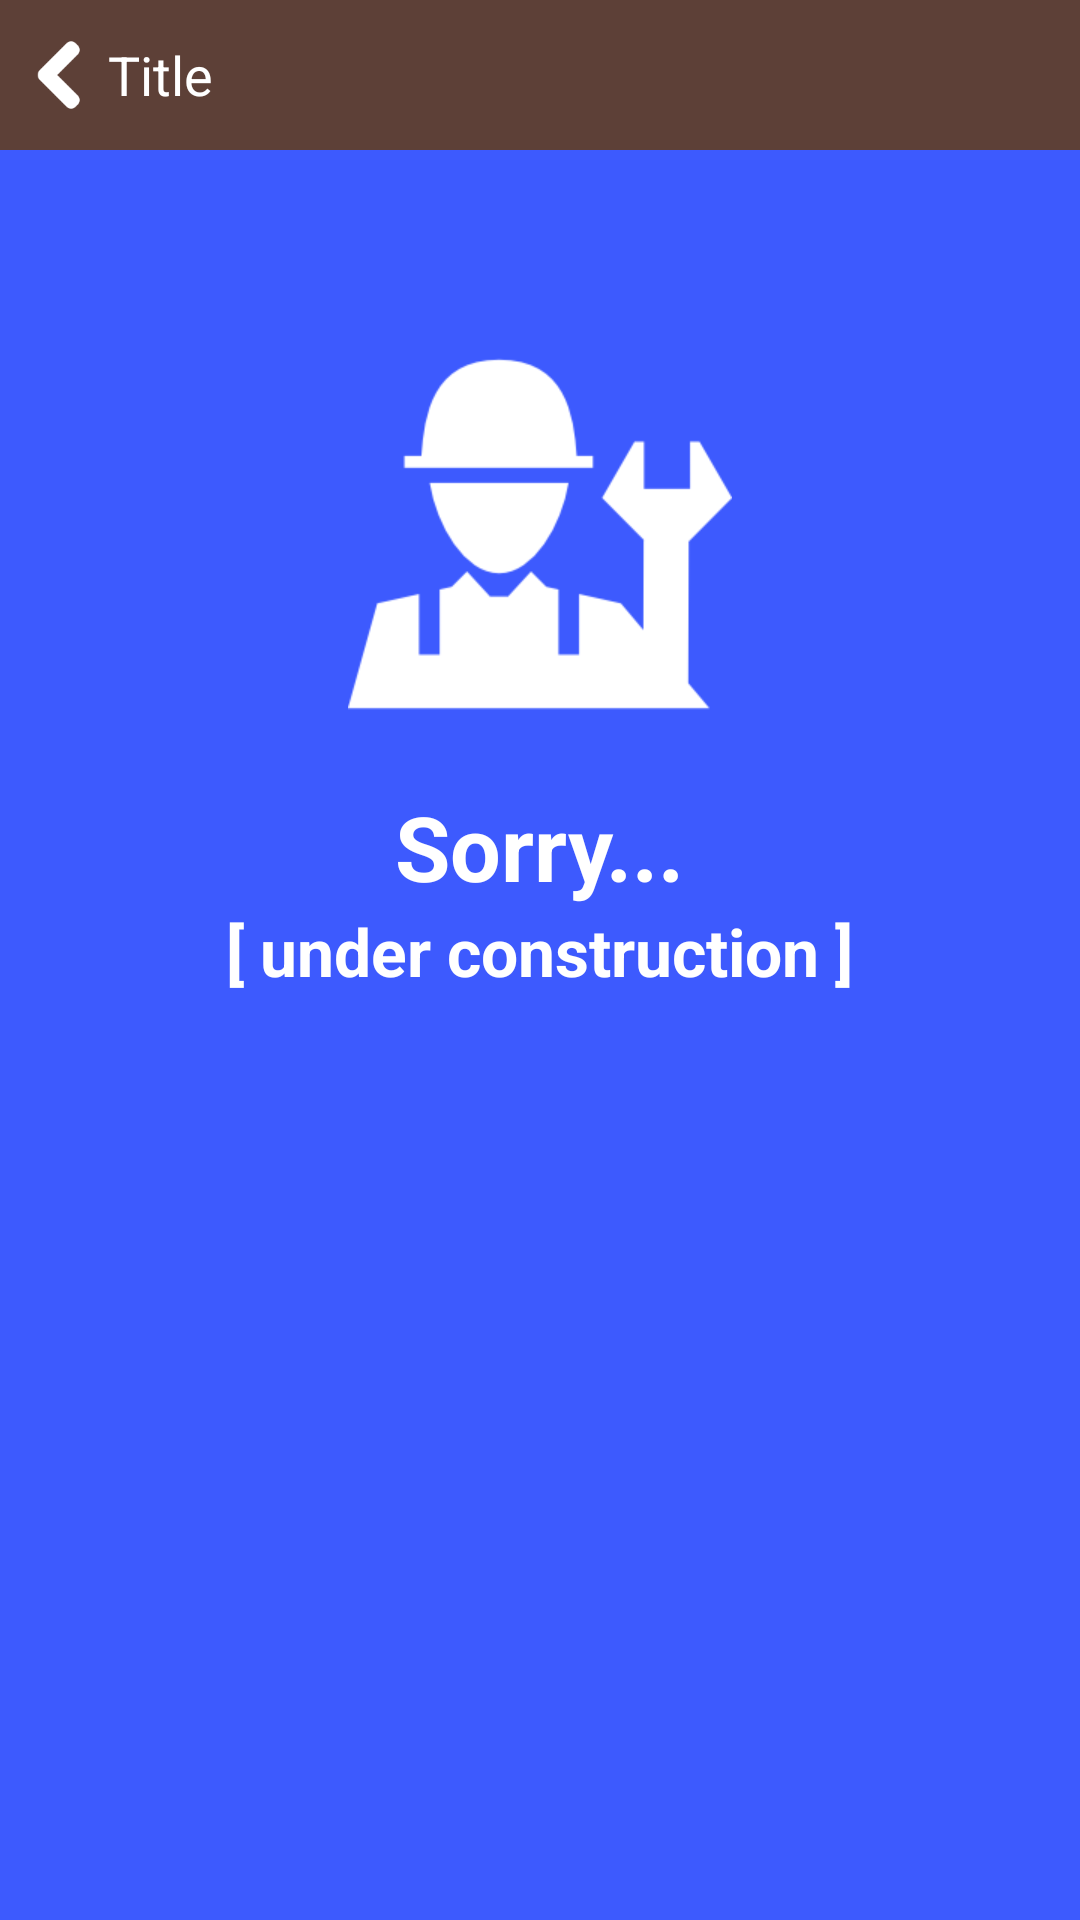

Icons on this 1080 x 1920 Android screen, each with its box as (x1, y1, x2, y2):
Back: (37, 41, 80, 109)
